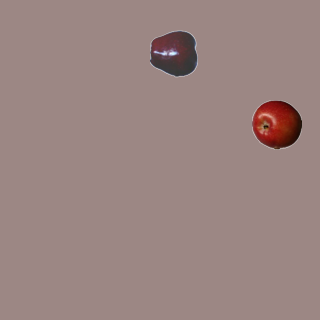Apple Braeburn: (251, 99, 301, 149)
Apple Red Delicious: (149, 28, 199, 78)
